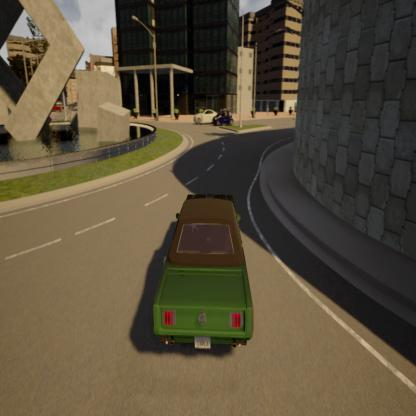Cars: (145, 187, 256, 363), (193, 107, 219, 126), (212, 110, 236, 127)
